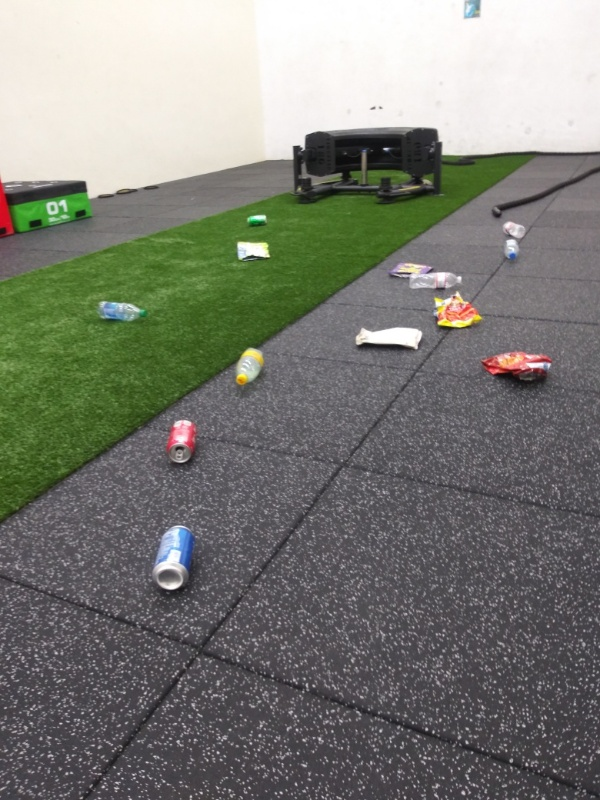bag: (477, 349, 556, 385), (349, 323, 428, 358), (429, 292, 486, 331), (230, 235, 274, 264), (385, 258, 434, 281)
bottle: (232, 340, 272, 392), (92, 294, 148, 324), (405, 268, 471, 291), (496, 220, 529, 241), (500, 235, 520, 264)
can: (148, 518, 200, 596), (162, 412, 202, 468), (242, 209, 271, 227)
